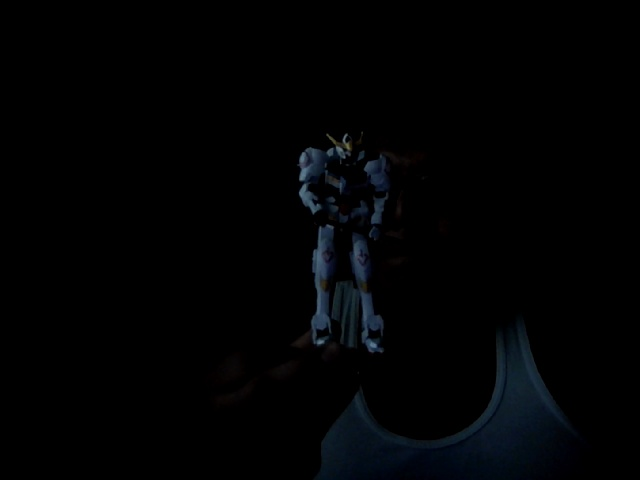Barbatos: (288, 132, 408, 357)
